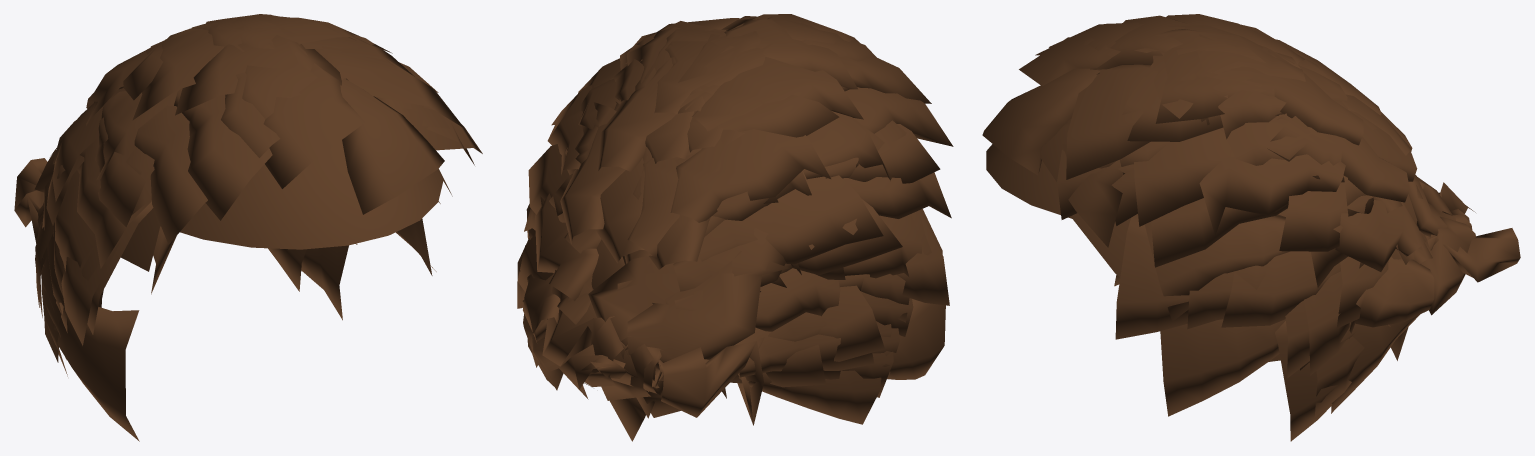
File: short_messy_m.glb
3 renders of one model, left to right at view 1: azimuth 30°, elevation 25°; view 2: azimuth 150°, elevation 25°; view 3: azimuth 270°, elevation 25°, orthographic. The views are drawn at different scales.
Visible parts, largest first — view 1: short_messy_m; view 2: short_messy_m; view 3: short_messy_m.
Boxes of the visible parts, x1=… form: short_messy_m: x1=14, y1=14, x2=482, y2=441; short_messy_m: x1=517, y1=14, x2=953, y2=441; short_messy_m: x1=982, y1=14, x2=1520, y2=441.
Size of the model in its own units: 0.2166 by 0.1884 by 0.2666.
